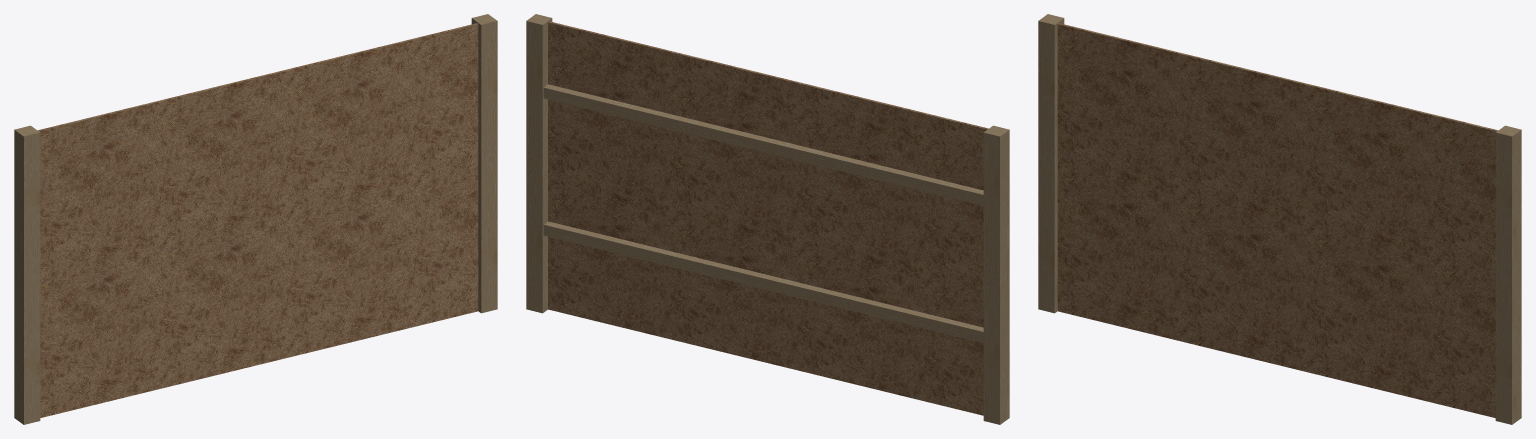
File: Fence.dae
3 renders of one model, left to right at view 1: azimuth 30°, elevation 25°; view 2: azimuth 150°, elevation 25°; view 3: azimuth 330°, elevation 25°, orthographic.
Parts seen in each view (by area): view 1: Plywood, Beams; view 2: Plywood, Beams; view 3: Plywood, Beams.
Part boxes in pixels (x1,y1,x2,y2): Plywood: [38, 23, 478, 417]; Beams: [14, 14, 497, 424]; Plywood: [548, 21, 988, 415]; Beams: [526, 14, 1009, 424]; Plywood: [1057, 23, 1497, 417]; Beams: [1038, 14, 1521, 424].
Size of the model in its own units: 518 by 301 by 18.06.
2 materials, 2 textured.
